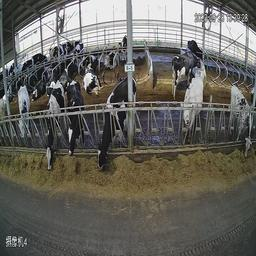cow: (97, 76, 152, 163), (174, 74, 212, 149), (65, 78, 90, 162), (165, 44, 204, 88), (230, 82, 251, 159), (45, 79, 62, 174), (15, 88, 34, 153), (183, 23, 205, 62), (83, 57, 103, 94), (118, 31, 138, 60), (102, 48, 120, 71)
